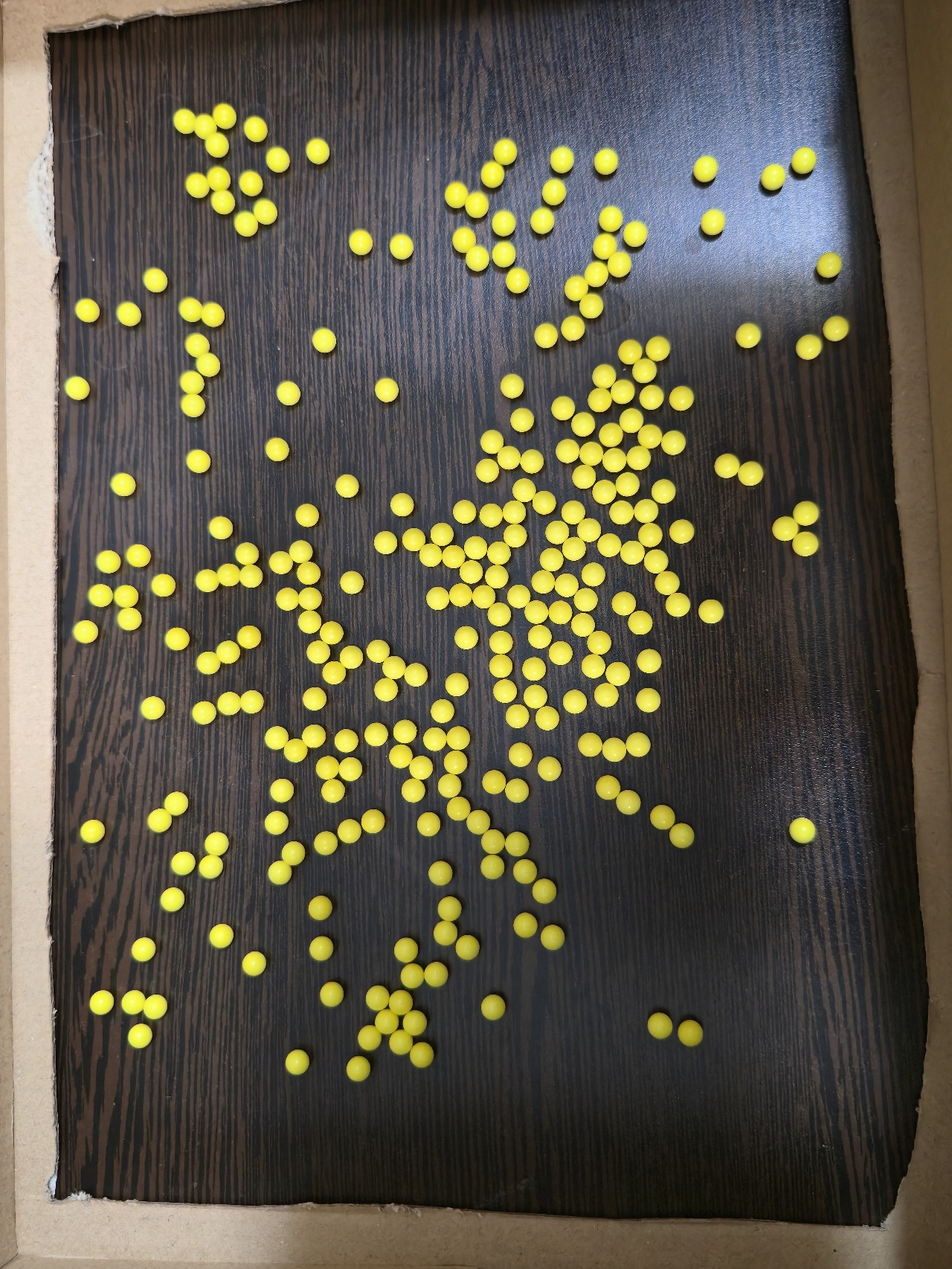yellow_bead: (191, 339, 213, 370), (179, 115, 210, 135), (184, 303, 216, 321), (186, 376, 198, 393), (588, 267, 602, 281), (147, 1000, 161, 1013), (829, 322, 843, 335), (823, 258, 836, 272), (127, 997, 142, 1009), (613, 257, 625, 272), (271, 152, 283, 167), (187, 395, 198, 411), (796, 824, 809, 837), (800, 507, 813, 520), (675, 392, 688, 405), (638, 364, 651, 377), (629, 228, 642, 241), (797, 154, 810, 167), (666, 437, 680, 449), (567, 321, 579, 335), (570, 281, 582, 295), (512, 273, 524, 287), (498, 247, 510, 261), (396, 240, 408, 254), (498, 216, 510, 230), (258, 205, 270, 219), (767, 170, 779, 184), (600, 155, 612, 169), (312, 144, 324, 158), (205, 860, 217, 873), (210, 839, 222, 852), (626, 547, 639, 559), (779, 523, 792, 535), (744, 468, 757, 480), (608, 454, 621, 466), (632, 452, 645, 464), (644, 431, 657, 443), (625, 414, 637, 427), (625, 346, 637, 359), (652, 342, 664, 355), (802, 341, 815, 353), (742, 330, 755, 342), (122, 308, 135, 320), (585, 299, 597, 312), (240, 218, 252, 231), (707, 216, 719, 229), (216, 196, 229, 208), (699, 163, 711, 176), (223, 698, 237, 709), (799, 539, 813, 550), (472, 251, 483, 265), (355, 235, 366, 249), (548, 184, 559, 198), (191, 181, 205, 192), (134, 1030, 146, 1042), (654, 1020, 666, 1032), (96, 997, 108, 1009), (472, 817, 484, 829), (622, 797, 634, 809), (632, 739, 644, 751), (541, 713, 553, 725), (198, 707, 210, 719), (611, 668, 623, 680), (538, 576, 550, 588), (102, 556, 114, 568), (650, 556, 662, 568), (568, 543, 580, 555), (640, 505, 652, 517), (599, 486, 611, 498), (622, 478, 634, 490), (721, 460, 733, 472), (192, 455, 204, 467), (585, 448, 597, 460), (562, 445, 574, 457), (605, 429, 617, 441), (516, 414, 528, 426), (506, 380, 518, 392), (540, 330, 552, 342), (149, 274, 161, 286), (153, 815, 166, 826), (122, 613, 135, 624), (705, 606, 718, 617), (560, 580, 573, 591), (579, 470, 590, 483), (646, 391, 657, 404), (599, 370, 610, 383), (318, 334, 329, 347), (202, 658, 216, 668), (222, 571, 237, 580), (487, 1001, 498, 1013), (248, 959, 260, 970), (315, 943, 327, 954), (215, 931, 227, 942), (166, 894, 178, 905), (434, 868, 446, 879), (274, 867, 286, 878), (519, 866, 530, 878), (177, 858, 189, 869), (511, 838, 522, 850), (320, 838, 332, 849), (487, 836, 498, 848), (86, 826, 98, 837), (344, 826, 356, 837), (657, 812, 669, 823), (170, 798, 182, 809), (408, 785, 419, 797), (544, 763, 555, 775), (415, 762, 426, 774), (450, 756, 461, 768), (608, 745, 620, 756), (585, 739, 596, 751), (429, 734, 441, 745), (452, 733, 464, 744), (399, 726, 411, 737), (528, 664, 540, 675), (643, 656, 655, 667), (555, 648, 567, 659), (312, 647, 324, 658), (222, 647, 234, 658), (79, 626, 91, 637), (634, 618, 646, 629), (304, 616, 315, 628), (530, 607, 542, 618), (672, 600, 684, 611), (618, 598, 630, 609), (580, 594, 592, 605), (303, 594, 315, 605), (477, 592, 489, 603), (120, 591, 131, 603), (662, 578, 674, 589), (244, 571, 256, 582), (425, 550, 437, 561), (493, 548, 505, 559), (603, 540, 615, 551), (510, 530, 521, 542), (645, 529, 656, 541), (552, 527, 563, 539), (676, 526, 688, 537), (583, 525, 595, 536), (616, 507, 628, 518), (567, 507, 579, 518), (508, 507, 520, 518), (538, 498, 550, 509), (657, 486, 669, 497), (518, 485, 530, 496), (117, 479, 129, 490), (526, 456, 538, 467), (271, 444, 283, 455), (577, 418, 588, 430), (558, 402, 569, 414), (594, 393, 605, 405), (283, 387, 294, 399), (617, 385, 628, 397), (71, 382, 83, 393), (80, 305, 92, 316), (605, 212, 617, 223), (556, 156, 568, 167), (210, 139, 222, 150), (244, 697, 257, 707), (282, 595, 295, 605), (94, 591, 107, 601), (202, 576, 215, 586), (275, 558, 288, 568), (599, 240, 608, 254), (364, 1033, 375, 1044), (440, 928, 451, 939), (538, 886, 549, 897), (487, 862, 498, 873), (288, 848, 299, 859), (676, 830, 687, 841), (271, 818, 282, 829), (511, 786, 522, 797), (444, 780, 455, 791), (489, 777, 500, 788), (290, 745, 301, 756), (308, 731, 319, 742), (512, 711, 523, 722), (437, 706, 448, 717), (643, 695, 654, 706), (530, 691, 541, 702), (601, 690, 612, 701), (380, 684, 391, 695), (410, 670, 421, 681), (588, 661, 599, 672), (495, 661, 506, 672), (594, 638, 605, 649), (534, 632, 545, 643), (578, 620, 589, 631), (494, 609, 505, 620), (491, 571, 502, 582), (588, 569, 599, 580), (303, 568, 314, 579), (466, 566, 477, 577), (295, 546, 306, 557), (408, 534, 419, 545), (486, 510, 497, 521), (459, 507, 470, 518), (504, 452, 515, 463), (486, 436, 497, 447), (381, 385, 392, 396), (292, 1056, 302, 1068), (372, 992, 382, 1004), (453, 803, 463, 815), (344, 765, 356, 775), (370, 730, 382, 740), (569, 697, 581, 707), (388, 663, 400, 673), (514, 591, 524, 603), (346, 578, 358, 588), (396, 500, 408, 510), (341, 482, 353, 492), (482, 465, 492, 477), (458, 235, 468, 247), (409, 1018, 419, 1029), (327, 989, 337, 1000), (431, 969, 441, 980), (138, 945, 149, 955), (547, 932, 557, 943), (520, 921, 531, 931), (444, 904, 454, 915), (315, 903, 325, 914), (423, 820, 434, 830), (367, 817, 378, 827), (276, 786, 287, 796), (603, 784, 614, 794), (515, 750, 525, 761), (341, 736, 351, 747), (271, 733, 281, 744), (147, 703, 158, 713), (309, 694, 320, 704), (500, 687, 511, 697), (451, 680, 462, 690), (346, 652, 356, 663), (373, 647, 384, 657), (496, 637, 506, 648), (461, 633, 472, 643), (555, 608, 566, 618), (433, 594, 444, 604), (156, 581, 167, 591), (546, 555, 557, 565), (448, 552, 459, 562), (470, 543, 481, 553), (380, 538, 391, 548), (437, 530, 448, 540), (301, 511, 312, 521), (400, 945, 409, 957), (326, 629, 338, 638), (454, 592, 466, 601), (131, 550, 143, 559), (214, 524, 226, 533), (536, 219, 548, 228), (472, 197, 479, 212), (462, 944, 472, 954), (328, 787, 338, 797), (242, 550, 252, 560), (322, 765, 333, 774), (329, 669, 340, 678), (243, 634, 254, 643), (353, 1066, 363, 1075), (407, 972, 416, 982), (396, 752, 405, 762), (396, 1039, 405, 1048), (245, 176, 254, 185), (500, 144, 509, 153), (171, 636, 180, 644), (451, 192, 460, 199), (381, 1018, 387, 1028), (416, 1053, 422, 1061), (395, 1000, 400, 1006), (215, 176, 221, 181), (250, 124, 255, 130), (490, 171, 495, 176), (222, 114, 225, 118), (688, 1033, 690, 1035)
